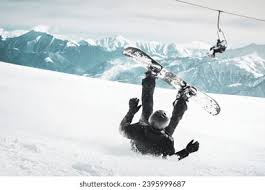snowboard: (122, 46, 221, 117)
